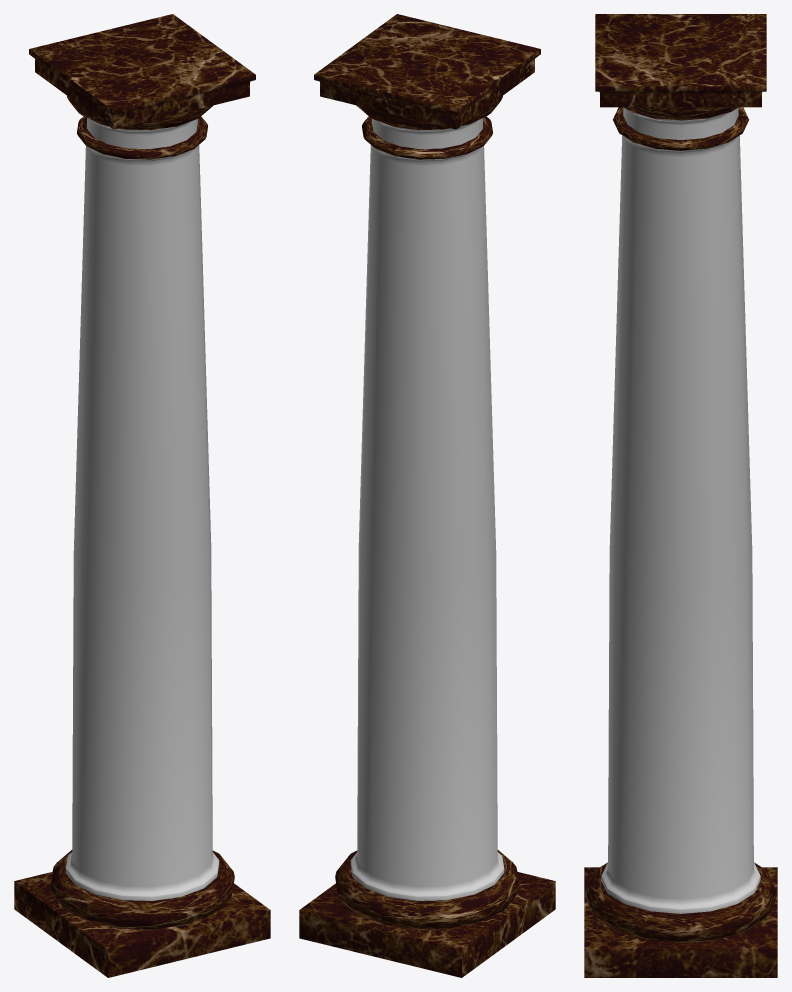
Rendered from ColumnMarbleWhite.fbx.
3 renders of one model, left to right at view 1: azimuth 30°, elevation 25°; view 2: azimuth 150°, elevation 25°; view 3: azimuth 270°, elevation 25°, orthographic. The views are drawn at different scales.
Visible parts, largest first — view 1: polySurface1; view 2: polySurface1; view 3: polySurface1.
Boxes of the visible parts, x1=… form: polySurface1: x1=14, y1=14, x2=270, y2=977; polySurface1: x1=299, y1=14, x2=555, y2=977; polySurface1: x1=584, y1=14, x2=777, y2=977.
Size of the model in its own units: 0.018 by 0.091 by 0.018.
